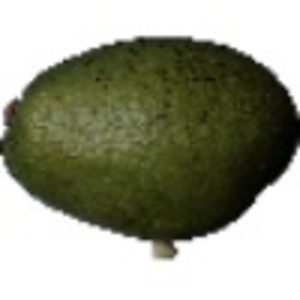abacate: (2, 36, 296, 241)
